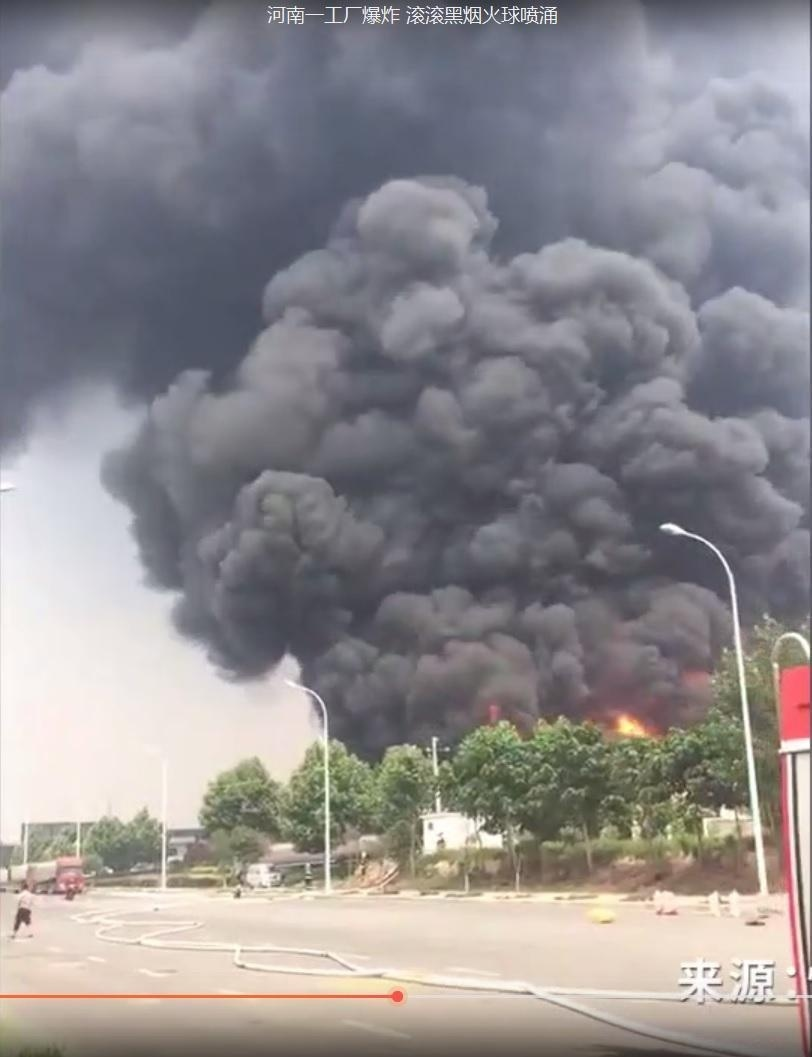fire: (612, 711, 653, 740)
